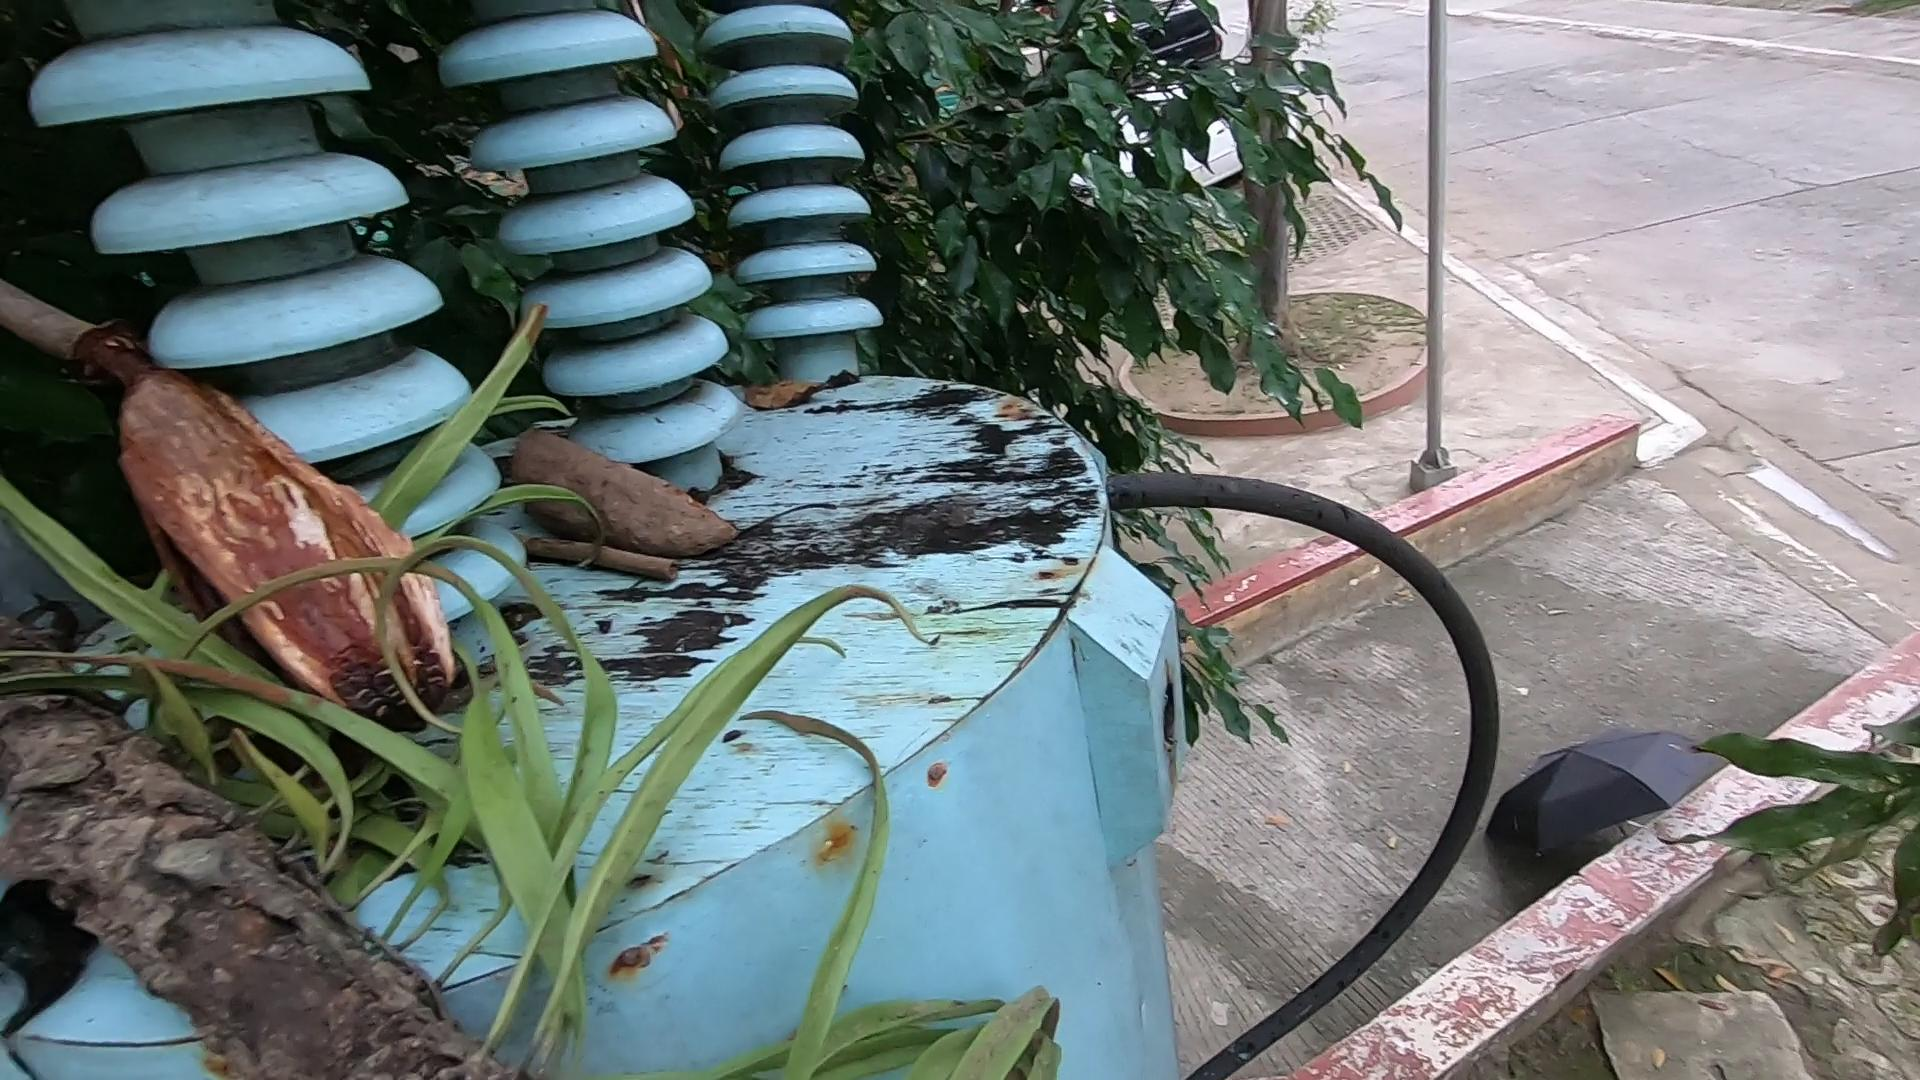branch with leaves: (12, 426, 1065, 1080)
leaf: (728, 359, 881, 425)
mahogany fruit: (102, 353, 547, 793), (495, 386, 779, 582)
tree branch: (12, 272, 156, 446), (501, 509, 745, 603)
